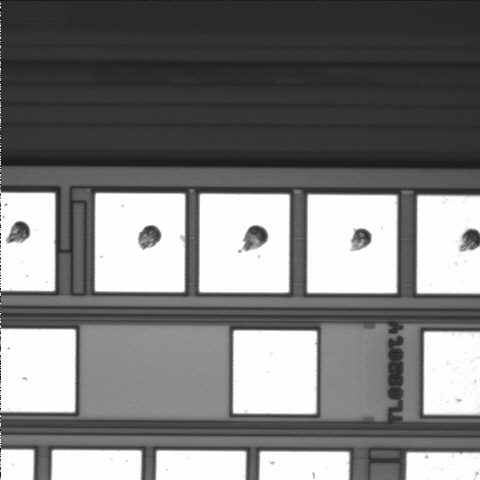pad: (95, 193, 185, 292), (199, 194, 289, 293), (307, 195, 397, 293), (233, 330, 317, 414)
